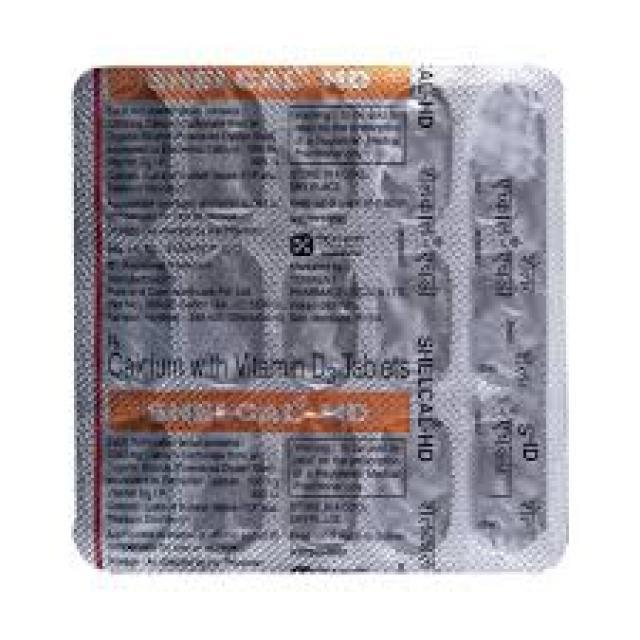authentic: (70, 56, 578, 579)
